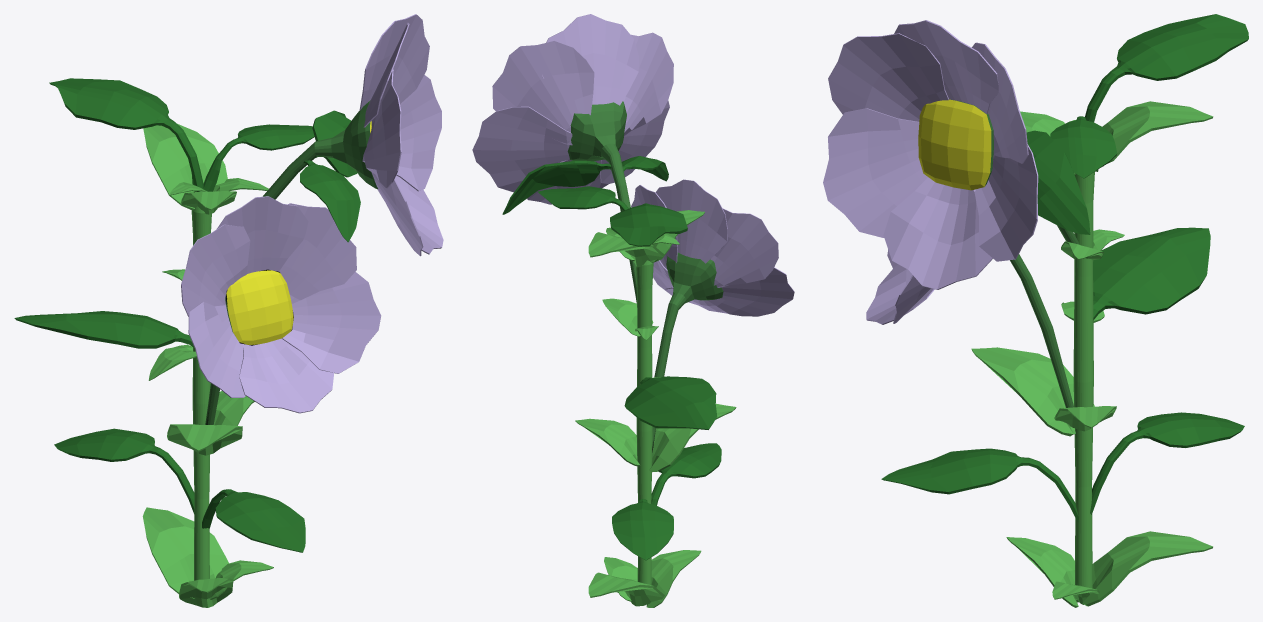
Rendered from flor2.fbx.
The picture shows the model from 3 angles, left to right: view 1: azimuth 30°, elevation 25°; view 2: azimuth 150°, elevation 25°; view 3: azimuth 270°, elevation 25°; orthographic projection. The views are drawn at different scales.
Parts seen in each view (by area): view 1: Cube.009, Plane.043, Cube.008, Plane.052, Plane.034, Plane.037, Plane.039; view 2: Cube.008, Cube.009, Plane.043, Plane.034, Plane.037, Plane.052, Plane.039; view 3: Cube.008, Plane.043, Plane.052, Plane.034, Plane.037, Cube.009, Plane.039.
Boxes of the visible parts, x1,y1,x2,y2 form: Cube.009: (181,196,381,424); Plane.043: (142,123,273,607); Cube.008: (263,14,443,256); Plane.052: (49,78,314,192); Plane.034: (54,428,305,552); Plane.037: (14,311,194,348); Plane.039: (300,110,360,242); Cube.008: (472,14,673,303); Cube.009: (631,179,794,452); Plane.043: (575,210,736,607); Plane.034: (612,443,721,560); Plane.037: (624,376,717,429); Plane.052: (538,186,687,246); Plane.039: (502,156,668,214); Cube.008: (823,20,1079,289); Plane.043: (971,101,1213,607); Plane.052: (1050,14,1248,178); Plane.034: (881,412,1244,521); Plane.037: (1093,227,1210,320); Cube.009: (866,249,1073,427); Plane.039: (1026,130,1090,234).
Size of the model in its own units: 1146 by 1865 by 1098.
3 materials, 1 textured.
